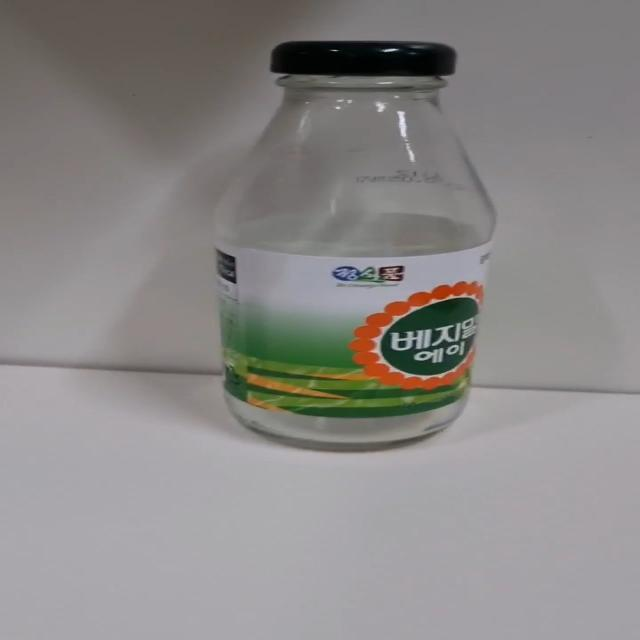Glass: (210, 42, 498, 456)
